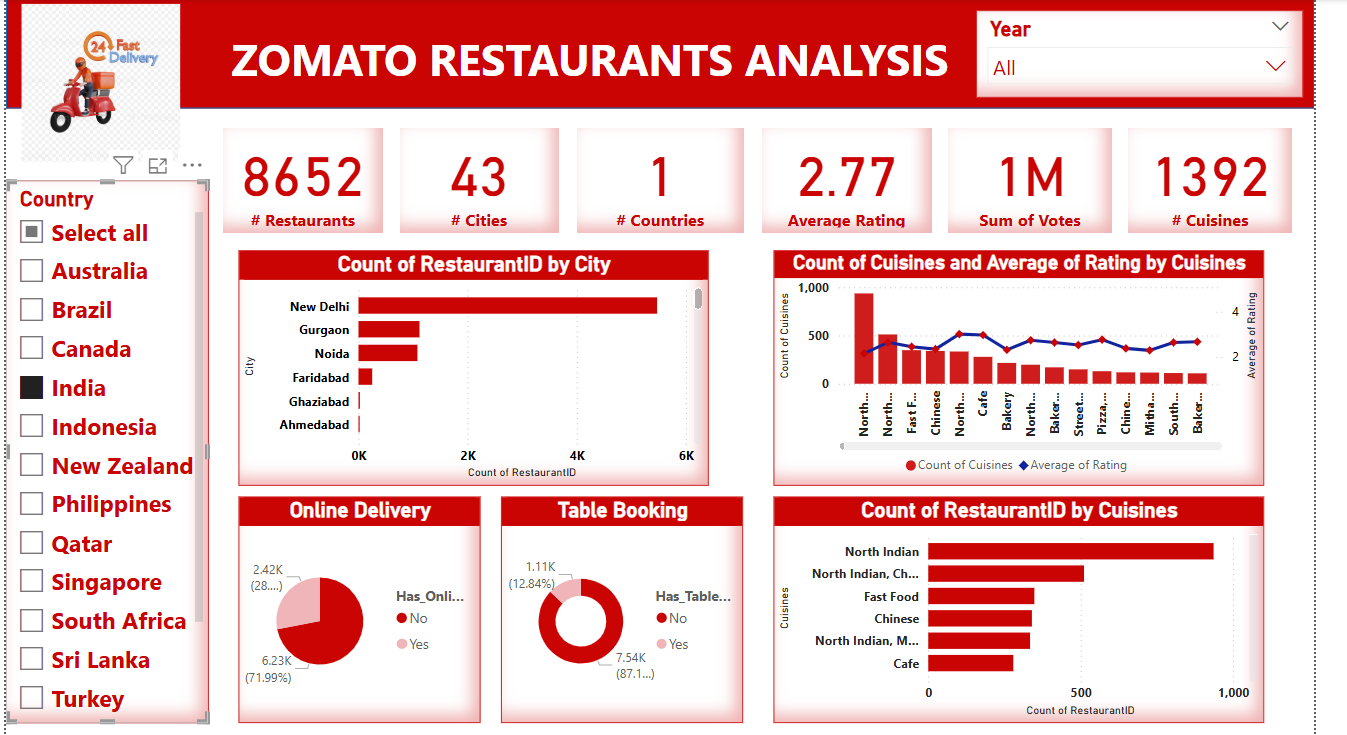

The page's visual inventory and layout, read from the dashboard file:
{"tool":"powerbi","page":{"name":"Dashboard","canvas":[1280,720],"ordinal":0},"visuals":[{"type":"shape","box":[0,0,1280,107.1],"z":0},{"type":"image","box":[0,0,185.7,164.3],"z":1000},{"type":"textbox","box":[185.7,24.3,778.6,60],"z":2000},{"type":"card","fields":{"Values":["CountNonNull(Restaurants.RestaurantID)"]},"box":[212.9,125.7,155.7,102.9],"z":3000},{"type":"card","fields":{"Values":["Count(Restaurants.City)"]},"box":[385.7,125.7,155.7,102.9],"z":4000},{"type":"card","fields":{"Values":["Count(Restaurants.CountryCode)"]},"box":[558.6,125.7,162.9,102.9],"z":5000},{"type":"card","fields":{"Values":["Avg(Restaurants.Rating)"]},"box":[740,125.7,165.7,102.9],"z":6000},{"type":"card","fields":{"Values":["Sum(Restaurants.Votes)"]},"box":[921.4,125.7,160,102.9],"z":7000},{"type":"card","fields":{"Values":["Count(Restaurants.Cuisines)"]},"box":[1098.6,125.7,160,102.9],"z":8000},{"type":"slicer","fields":{"Values":["Countries.country name"]},"box":[0,177.1,198.6,531.4],"z":9000},{"type":"lineStackedColumnComboChart","fields":{"Category":["Restaurants.Cuisines"],"Y":["CountNonNull(Restaurants.Cuisines)"],"Y2":["Avg(Restaurants.Rating)"]},"box":[751.4,245.7,480,230],"z":10000},{"type":"clusteredBarChart","fields":{"Category":["Restaurants.City"],"Y":["CountNonNull(Restaurants.RestaurantID)"]},"box":[227.1,245.7,460,230],"z":11000},{"type":"clusteredBarChart","fields":{"Category":["Restaurants.Cuisines"],"Y":["CountNonNull(Restaurants.RestaurantID)"]},"box":[751.4,487.1,480,221.4],"z":12000},{"type":"pieChart","title":"Online Delivery","fields":{"Category":["Restaurants.Has_Online_delivery"],"Y":["CountNonNull(Restaurants.RestaurantID)"]},"box":[227.1,487.1,237.1,221.4],"z":13000},{"type":"donutChart","title":"Table Booking","fields":{"Category":["Restaurants.Has_Table_booking"],"Y":["CountNonNull(Restaurants.RestaurantID)"]},"box":[484.3,487.1,237.1,221.4],"z":14000},{"type":"slicer","fields":{"Values":["Restaurants.Datekey_Opening.Variation.Date Hierarchy.Year"]},"box":[948.6,11.4,320,85.7],"z":14001}]}

Visuals, with their boxes on the page's 1280x720 design canvas (x1, y1, x2, y2). These are canvas units, not pixel positions in the 1347x735 screenshot, which may show the page scaled, cropped or inside an application window:
shape: box=[0, 0, 1280, 107]
image: box=[0, 0, 186, 164]
textbox: box=[186, 24, 964, 84]
card - CountNonNull(Restaurants.RestaurantID): box=[213, 126, 369, 229]
card - Count(Restaurants.City): box=[386, 126, 541, 229]
card - Count(Restaurants.CountryCode): box=[559, 126, 722, 229]
card - Avg(Restaurants.Rating): box=[740, 126, 906, 229]
card - Sum(Restaurants.Votes): box=[921, 126, 1081, 229]
card - Count(Restaurants.Cuisines): box=[1099, 126, 1259, 229]
slicer - Countries.country name: box=[0, 177, 199, 708]
lineStackedColumnComboChart - Restaurants.Cuisines x CountNonNull(Restaurants.Cuisines): box=[751, 246, 1231, 476]
clusteredBarChart - Restaurants.City x CountNonNull(Restaurants.RestaurantID): box=[227, 246, 687, 476]
clusteredBarChart - Restaurants.Cuisines x CountNonNull(Restaurants.RestaurantID): box=[751, 487, 1231, 708]
"Online Delivery" pieChart: box=[227, 487, 464, 708]
"Table Booking" donutChart: box=[484, 487, 721, 708]
slicer - Restaurants.Datekey_Opening.Variation.Date Hierarchy.Year: box=[949, 11, 1269, 97]
